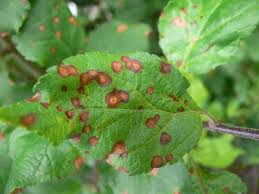unhealthy: (36, 48, 206, 177)
